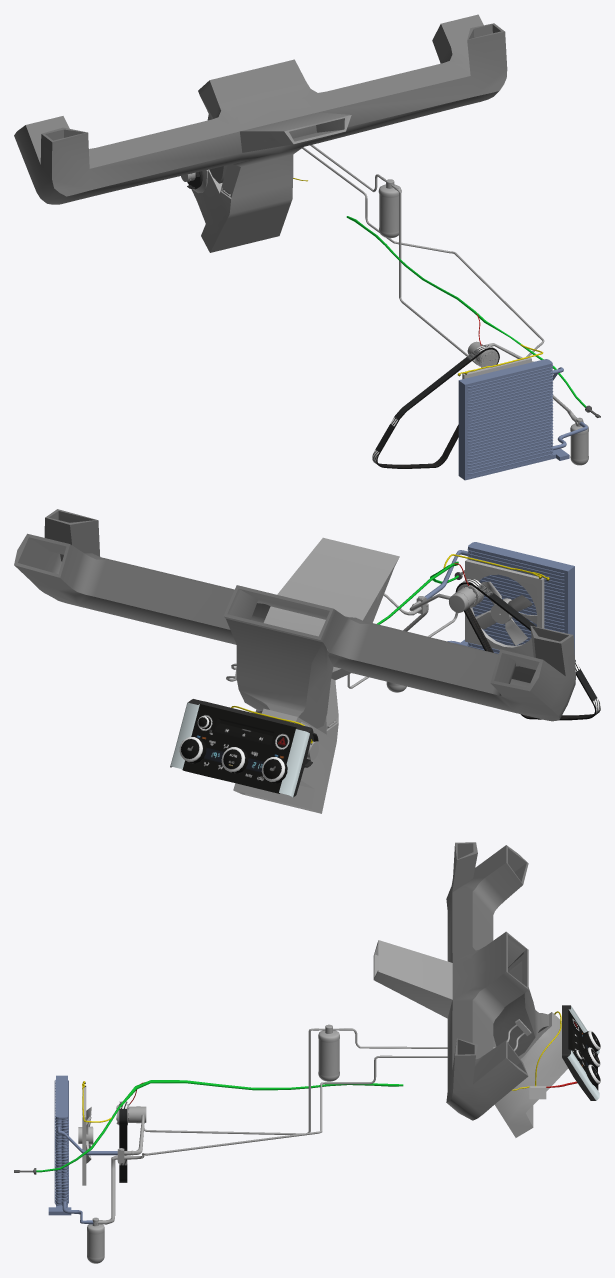
Rendered from Sistema_Ar_Condicionado.fbx.
3 views of the same model, one above another, from view 1: azimuth 30°, elevation 25°; view 2: azimuth 150°, elevation 25°; view 3: azimuth 270°, elevation 25° (orthographic). The views are drawn at different scales.
Visible parts, largest first — view 1: Duto_Distribuicao_de_Ar, Caixa_Entrada_de_ar, caixa, Aletas, Base, Tubulacao_Aluminio, GeneratorBelt, Acumulador_de_Succao, Cabo_Sensor, Secador; view 2: Duto_Distribuicao_de_Ar (×2), Caixa_Entrada_de_ar, comando_eletrico, caixa, Ventoinha_Ar_Condicionado, Aletas, GeneratorBelt, Base, vetilador, Tubulacao_Aluminio, Caixa, Compressor (+1 smaller); view 3: Duto_Distribuicao_de_Ar (×2), Caixa_Entrada_de_ar, Tubulacao_Aluminio, comando_eletrico, Cabo_Sensor, Acumulador_de_Succao, Aletas, Base, Secador, Caixa, GeneratorBelt.
Part boxes in pixels (x1,y1,x2,y2): Duto_Distribuicao_de_Ar: [14, 14, 507, 204]; Caixa_Entrada_de_ar: [191, 112, 351, 252]; caixa: [466, 366, 549, 477]; Aletas: [467, 365, 553, 474]; Base: [458, 359, 569, 480]; Tubulacao_Aluminio: [302, 144, 577, 421]; GeneratorBelt: [372, 345, 499, 468]; Acumulador_de_Succao: [378, 177, 401, 238]; Cabo_Sensor: [346, 216, 586, 407]; Secador: [570, 417, 588, 465]; Duto_Distribuicao_de_Ar (×2): [14, 509, 575, 728]; Caixa_Entrada_de_ar: [233, 537, 399, 813]; comando_eletrico: [170, 702, 309, 797]; caixa: [471, 550, 566, 652]; Ventoinha_Ar_Condicionado: [465, 559, 544, 657]; Aletas: [467, 549, 564, 653]; GeneratorBelt: [455, 579, 600, 720]; Base: [461, 542, 574, 654]; vetilador: [475, 581, 532, 645]; Tubulacao_Aluminio: [226, 593, 457, 688]; Caixa: [170, 699, 313, 797]; Compressor: [449, 587, 476, 613]; Duto_Distribuicao_de_Ar (×2): [446, 842, 548, 1120]; Caixa_Entrada_de_ar: [373, 940, 568, 1137]; Tubulacao_Aluminio: [98, 1024, 524, 1224]; comando_eletrico: [567, 1006, 600, 1100]; Cabo_Sensor: [36, 1080, 403, 1172]; Acumulador_de_Succao: [314, 1024, 343, 1081]; Aletas: [54, 1080, 68, 1204]; Base: [48, 1075, 71, 1215]; Secador: [87, 1217, 104, 1263]; Caixa: [562, 1005, 595, 1100]; GeneratorBelt: [119, 1101, 127, 1182].
Size of the model in its own units: 143 by 80.38 by 165.
